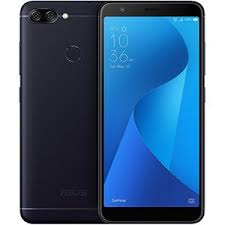asus: (16, 1, 102, 223)
